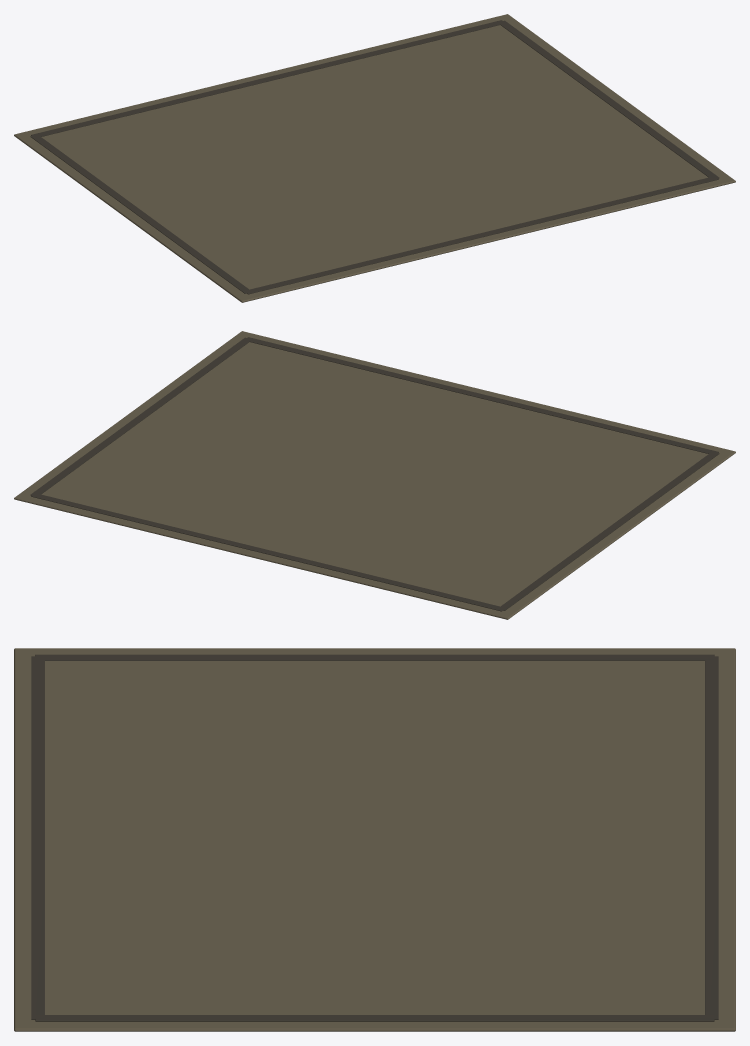
File: floor-decor.glb
3 renders of one model, top to bottom at view 1: azimuth 30°, elevation 25°; view 2: azimuth 150°, elevation 25°; view 3: azimuth 270°, elevation 25°, orthographic. The views are drawn at different scales.
Visible parts, largest first — view 1: pirate-captains-cabin floor-decor; view 2: pirate-captains-cabin floor-decor; view 3: pirate-captains-cabin floor-decor.
Part boxes in pixels (x1,y1,x2,y2): pirate-captains-cabin floor-decor: (14, 14, 735, 302); pirate-captains-cabin floor-decor: (14, 331, 735, 619); pirate-captains-cabin floor-decor: (14, 648, 735, 1031).
Bounding box in the file's own units: 5.25 × 0.0245 × 4.2.
